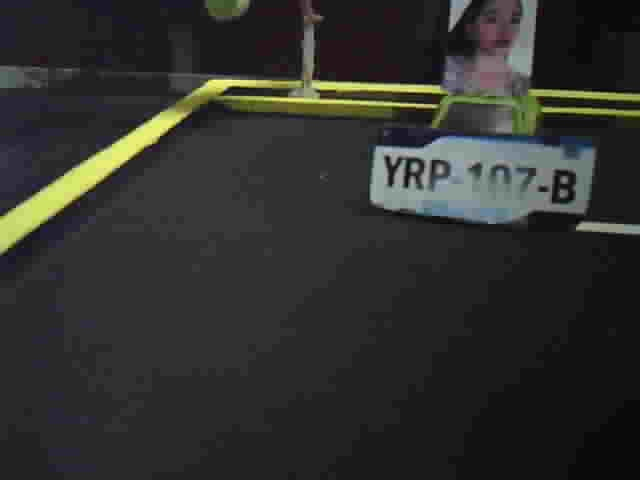PLACA: (366, 121, 598, 237)
ROSTRO: (445, 1, 531, 94)
